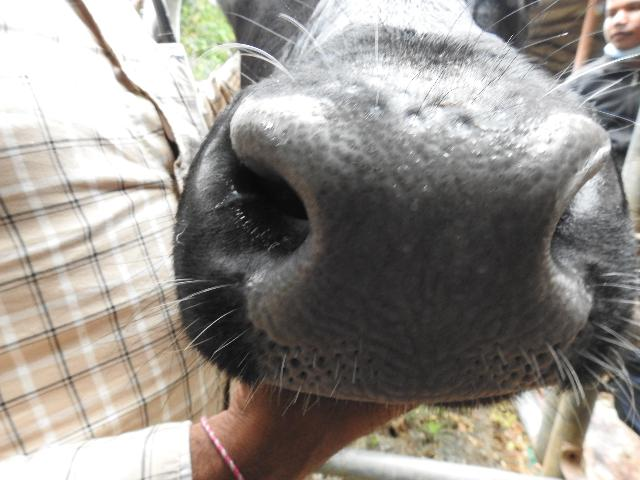Muzzle: (311, 119, 541, 369)
